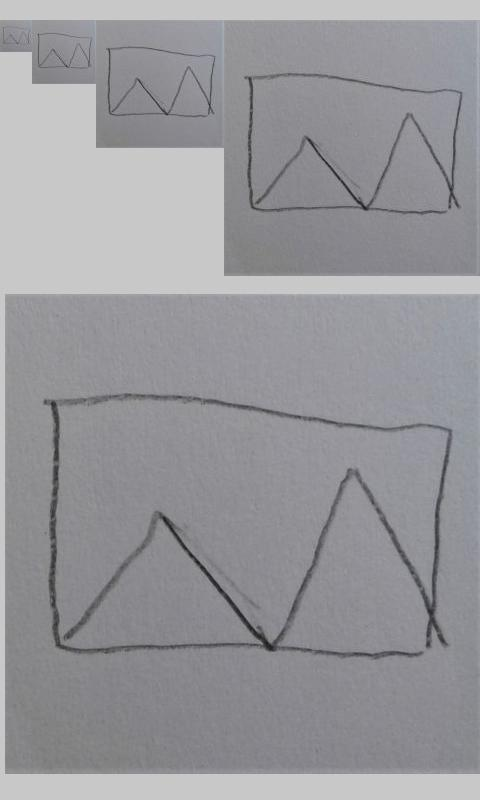image_view: (46, 391, 453, 666), (242, 70, 467, 217), (107, 46, 216, 119), (36, 32, 92, 69), (2, 25, 30, 46)
